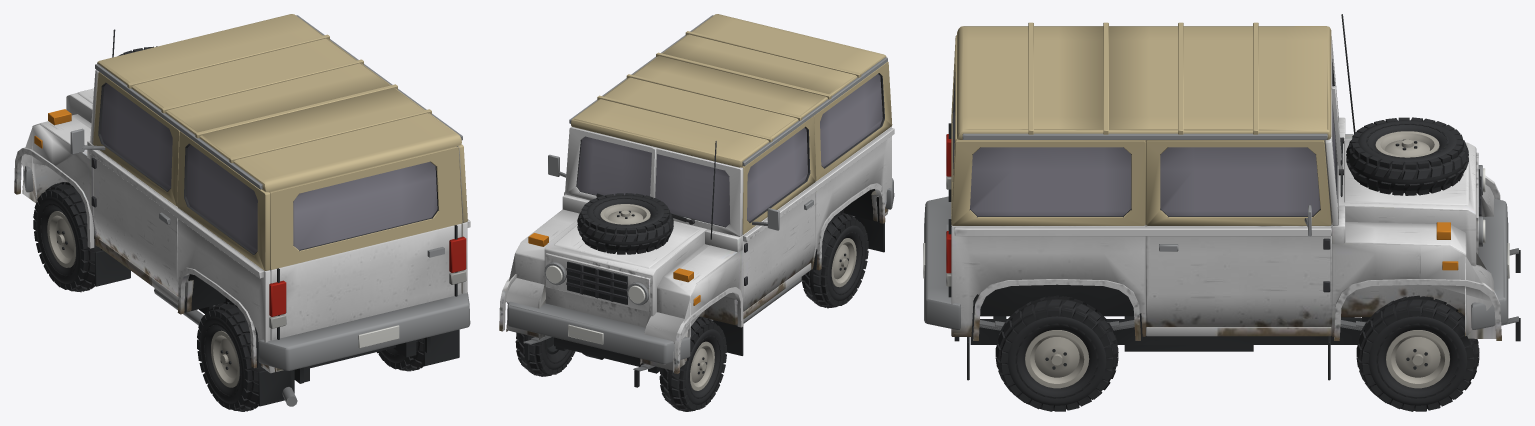
The model's file is eightyeight.m.glb.
3 renders of one model, left to right at view 1: azimuth 30°, elevation 25°; view 2: azimuth 150°, elevation 25°; view 3: azimuth 270°, elevation 25°, orthographic. The views are drawn at different scales.
Visible parts, largest first — view 1: body, door_FL, wheel_FL, wheel_RL, wheel_RR; view 2: body, door_FL, wheel_RL, wheel_FL, wheel_FR; view 3: body, door_FR, wheel_RR, wheel_FR.
Boxes of the visible parts, x1,y1,x2,y2 form: body: (14,14,470,406); door_FL: (70,72,179,296); wheel_FL: (33,182,102,292); wheel_RL: (197,301,265,411); wheel_RR: (377,338,423,371); body: (499,14,894,387); door_FL: (742,116,815,311); wheel_RL: (801,213,868,308); wheel_FL: (659,316,726,411); wheel_FR: (515,332,575,376); body: (923,14,1520,380); door_FR: (1146,140,1331,326); wheel_RR: (995,295,1118,411); wheel_FR: (1356,295,1479,411).
Bounding box in the file's own units: 2.1 × 2.12 × 3.7.
Materials: 17 (1 with a texture image).
